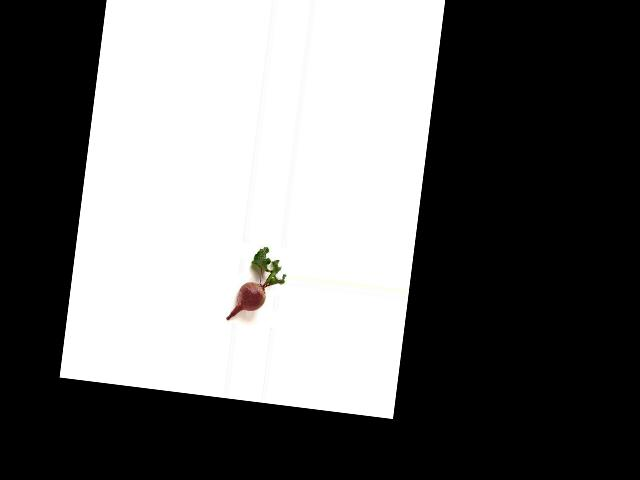beet: (226, 242, 289, 326)
